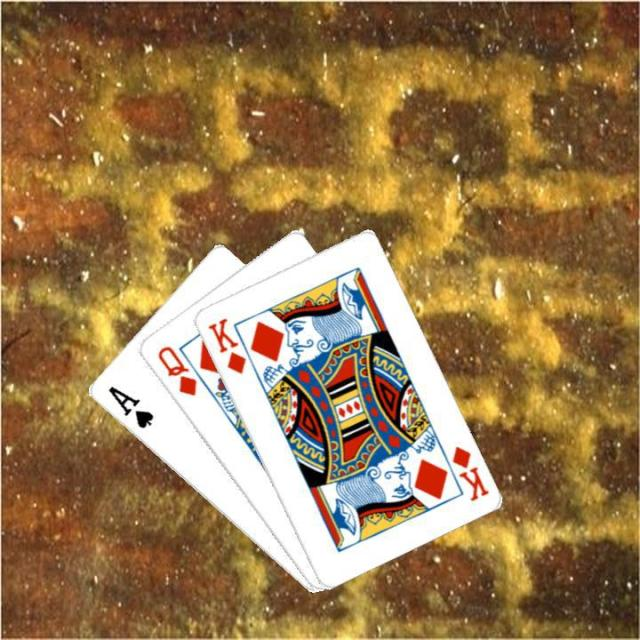AS: (103, 382, 155, 431)
KD: (204, 314, 248, 376), (447, 442, 491, 503)
QD: (153, 342, 198, 398)
